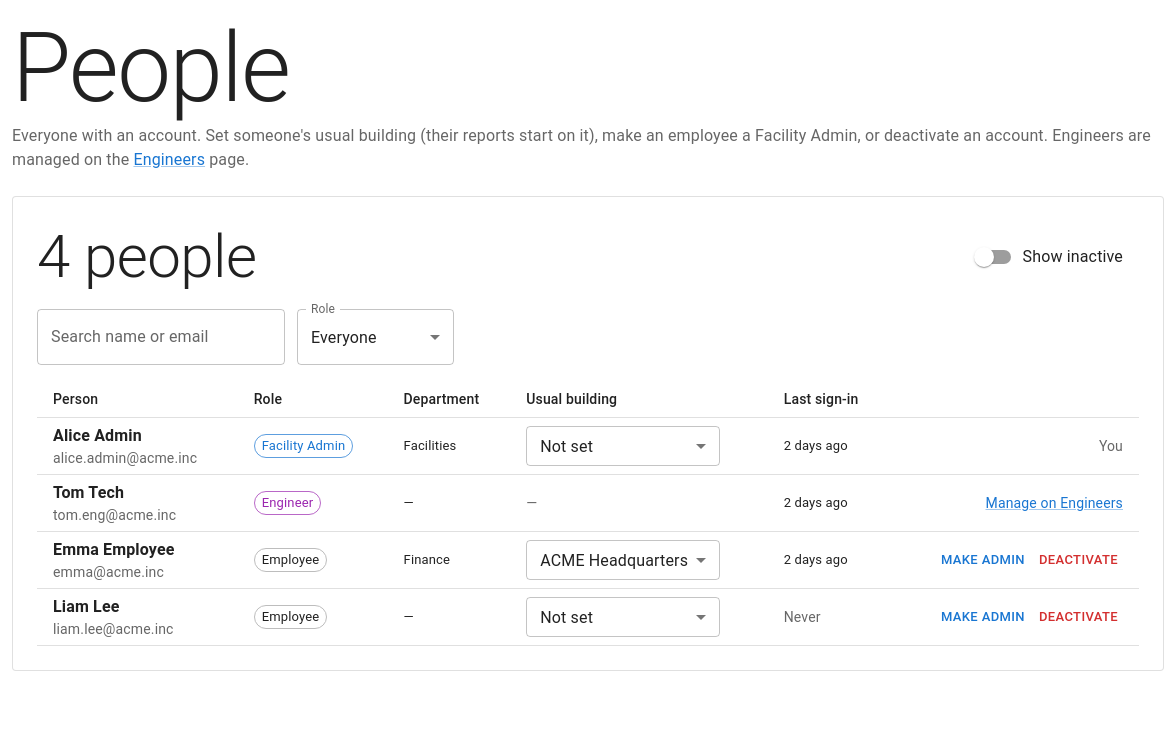
Test: People admin page › makes an employee an admin after confirming
This screenshot has width=1164, height=732.
Step 1. Click the button "Make admin" in the row of "Emma Employee" → (983,560), box [936,545,1030,576]
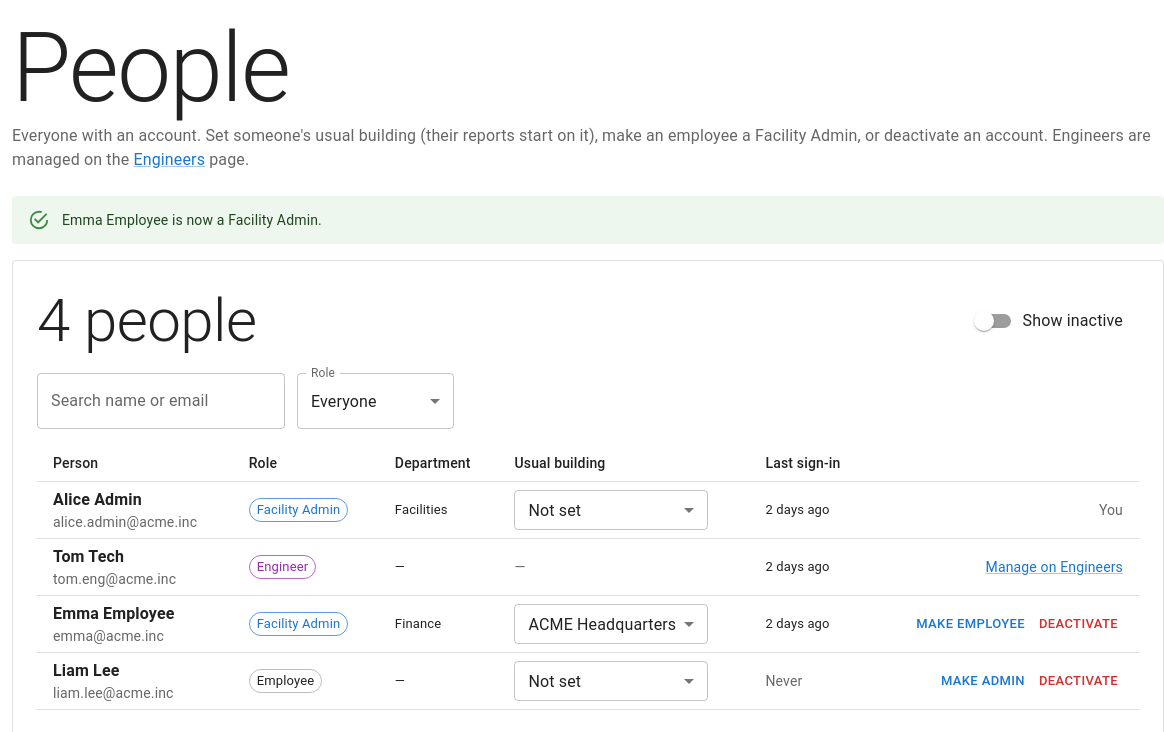
Check: the message reads "Emma Employee is now a Facility Admin.", box [62,212,322,228]
Check: the button "Make employee" is shown, box [911,609,1030,640]
